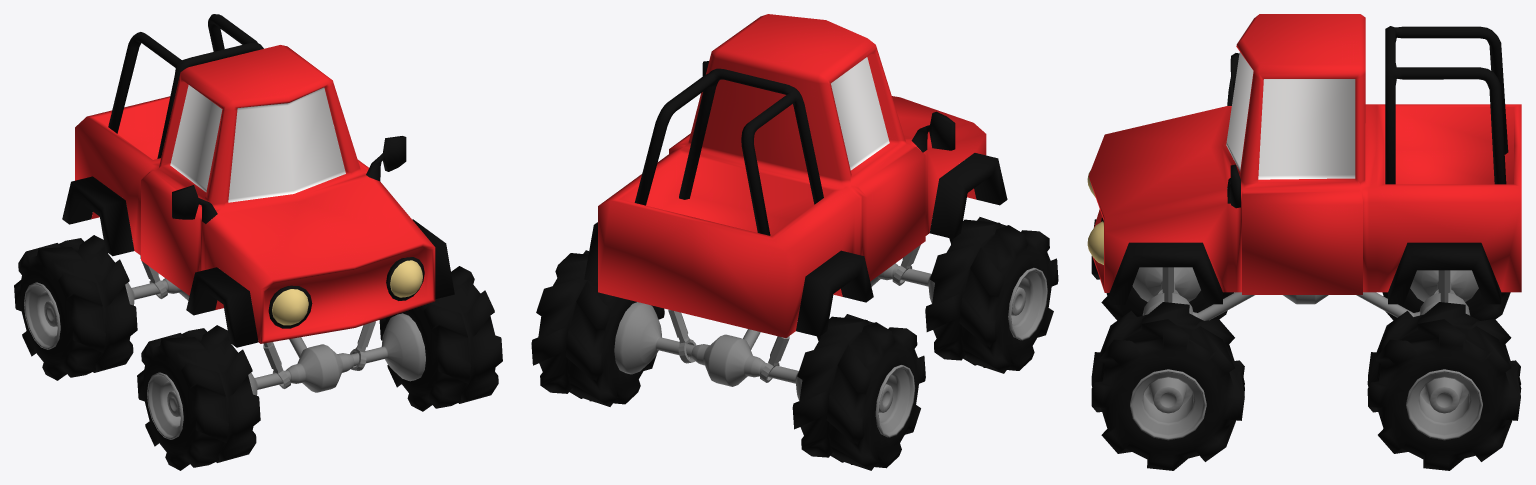
Rendered from jeep-transformed.glb.
3 renders of one model, left to right at view 1: azimuth 30°, elevation 25°; view 2: azimuth 150°, elevation 25°; view 3: azimuth 270°, elevation 25°, orthographic. The views are drawn at different scales.
Visible parts, largest first — view 1: Cube_Cube.002, Cylinder.003, Cylinder.002, Cylinder, Cube.001_Cube.004, Cube.006_Cube.001, Circle.003, Circle.002, Cube.005_Cube.008, Cube.002_Cube.005; view 2: Cube_Cube.002, Cylinder.003, Cylinder.002, Cylinder.001, Cube.006_Cube.001, Cube.002_Cube.005, Circle.003, Circle.002, Cube.005_Cube.008, Cube.001_Cube.004; view 3: Cube_Cube.002, Cylinder, Cylinder.001, Cube.006_Cube.001, Circle, Circle.001, Cube.001_Cube.004, Cube.002_Cube.005, Cube.003_Cube.006, Cylinder.003, Cylinder.002, Cube.005_Cube.008.
Boxes of the visible parts, x1=… form: Cube_Cube.002: x1=62, y1=45, x2=454, y2=347; Cylinder.003: x1=137, y1=325, x2=260, y2=470; Cylinder.002: x1=14, y1=235, x2=137, y2=380; Cylinder: x1=379, y1=266, x2=502, y2=411; Cube.001_Cube.004: x1=248, y1=313, x2=425, y2=395; Cube.006_Cube.001: x1=108, y1=14, x2=263, y2=158; Circle.003: x1=147, y1=372, x2=183, y2=439; Circle.002: x1=24, y1=282, x2=60, y2=349; Cube.005_Cube.008: x1=140, y1=255, x2=375, y2=388; Cube.002_Cube.005: x1=125, y1=278, x2=189, y2=305; Cube_Cube.002: x1=584, y1=14, x2=1007, y2=337; Cylinder.003: x1=925, y1=217, x2=1058, y2=373; Cylinder.002: x1=792, y1=314, x2=925, y2=470; Cylinder.001: x1=531, y1=250, x2=664, y2=406; Cube.006_Cube.001: x1=634, y1=68, x2=823, y2=235; Cube.002_Cube.005: x1=614, y1=302, x2=802, y2=400; Circle.003: x1=1008, y1=267, x2=1047, y2=340; Circle.002: x1=875, y1=365, x2=915, y2=437; Cube.005_Cube.008: x1=668, y1=245, x2=920, y2=382; Cube.001_Cube.004: x1=870, y1=263, x2=934, y2=303; Cube_Cube.002: x1=1087, y1=14, x2=1521, y2=304; Cylinder: x1=1091, y1=302, x2=1244, y2=470; Cylinder.001: x1=1367, y1=302, x2=1521, y2=470; Cube.006_Cube.001: x1=1385, y1=26, x2=1508, y2=184; Circle: x1=1130, y1=369, x2=1206, y2=440; Circle.001: x1=1406, y1=369, x2=1482, y2=440; Cube.001_Cube.004: x1=1132, y1=267, x2=1200, y2=315; Cube.002_Cube.005: x1=1410, y1=270, x2=1478, y2=315; Cube.003_Cube.006: x1=1192, y1=292, x2=1420, y2=320; Cylinder.003: x1=1091, y1=219, x2=1234, y2=320; Cylinder.002: x1=1382, y1=288, x2=1510, y2=320; Cube.005_Cube.008: x1=1157, y1=267, x2=1455, y2=302.
Bounding box in the file's own units: 5.9 × 5.64 × 6.34.
1 material, 1 textured.
